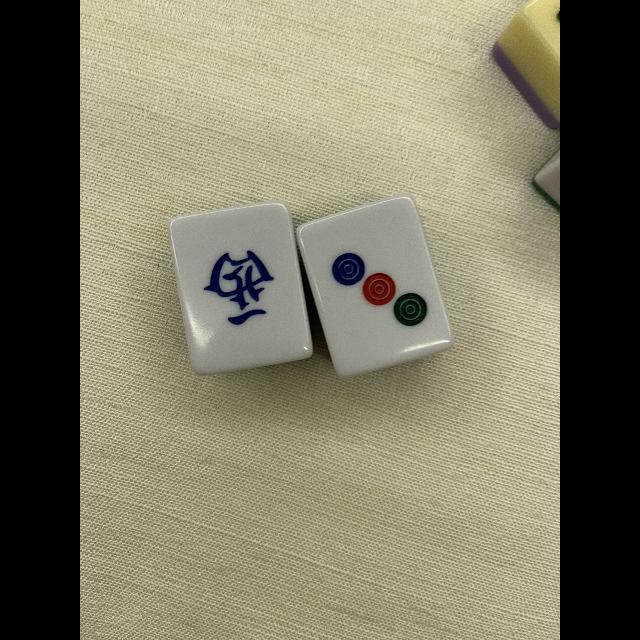d3: (312, 209, 440, 365)
ww: (179, 210, 303, 366)
